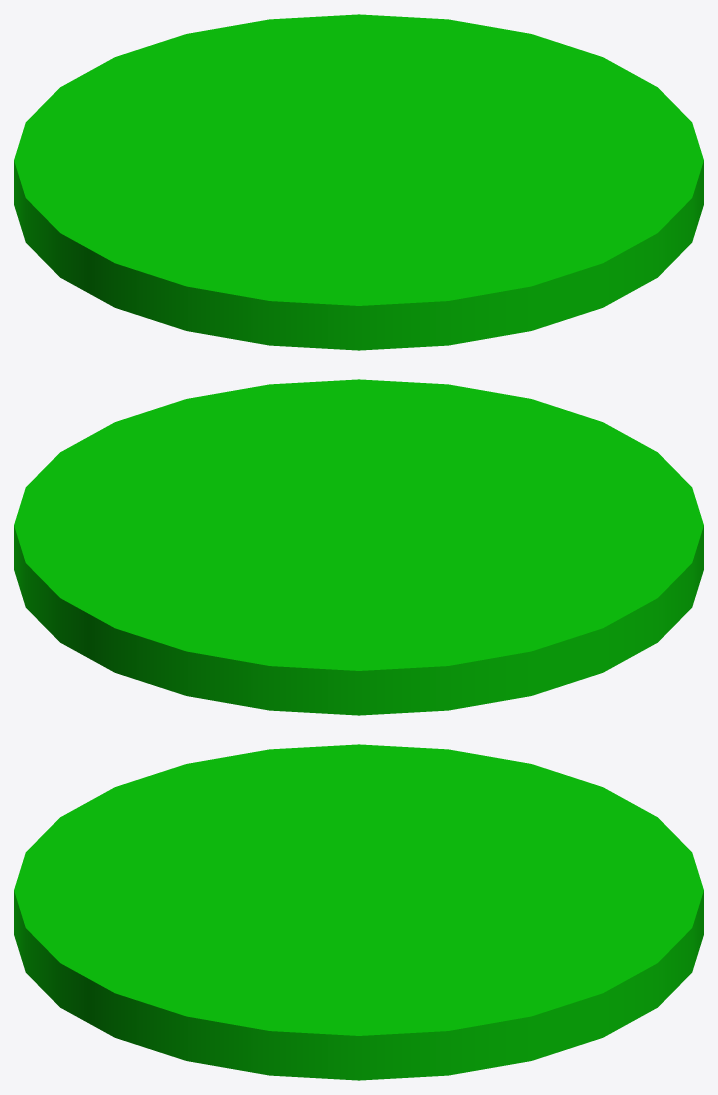
The model's file is CylinderBase-1-12-1.fbx.
3 renders of one model, top to bottom at view 1: azimuth 30°, elevation 25°; view 2: azimuth 150°, elevation 25°; view 3: azimuth 270°, elevation 25°, orthographic.
Parts seen in each view (by area): view 1: Model; view 2: Model; view 3: Model.
Boxes of the visible parts, x1,y1,x2,y2 form: Model: [14, 14, 703, 350]; Model: [14, 379, 703, 715]; Model: [14, 744, 703, 1080].
Bounding box in the file's own units: 5.53 × 0.3937 × 5.53.
